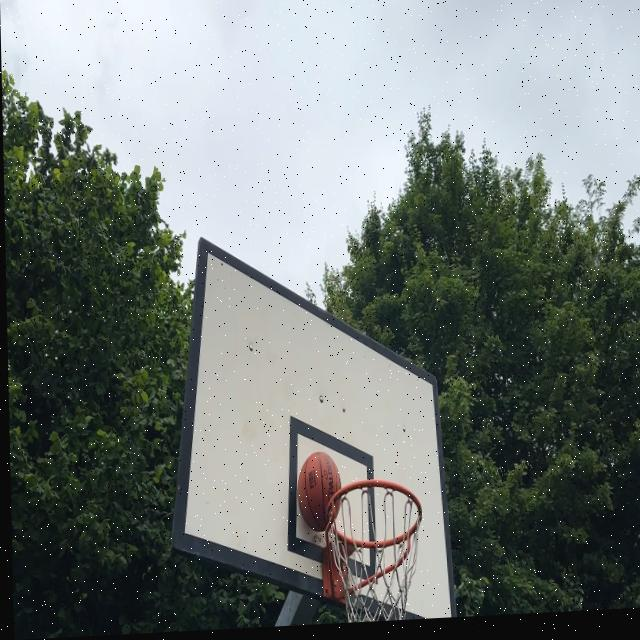rebound_hit: (296, 451, 343, 535)
